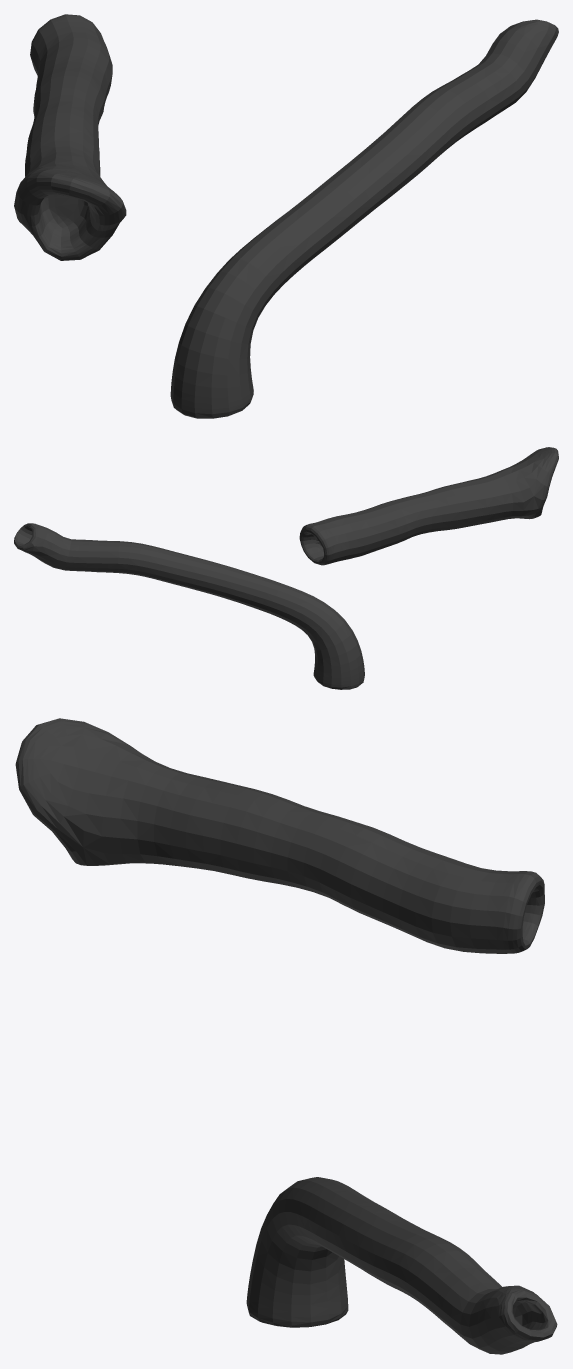
The model's file is CANALICULUS_tympanic_n_L.glb.
3 views of the same model, one above another, from view 1: azimuth 30°, elevation 25°; view 2: azimuth 150°, elevation 25°; view 3: azimuth 270°, elevation 25° (orthographic). The views are drawn at different scales.
Visible parts, largest first — view 1: CANALICULUS_tympanic_n_L; view 2: CANALICULUS_tympanic_n_L; view 3: CANALICULUS_tympanic_n_L.
Boxes of the visible parts, <box> form: CANALICULUS_tympanic_n_L: <box>14,14,558,418</box>; CANALICULUS_tympanic_n_L: <box>14,447,558,689</box>; CANALICULUS_tympanic_n_L: <box>15,718,557,1354</box>.
Bounding box in the file's own units: 1.8 × 0.8877 × 0.9776.
Materials: 1 (1 with a texture image).
